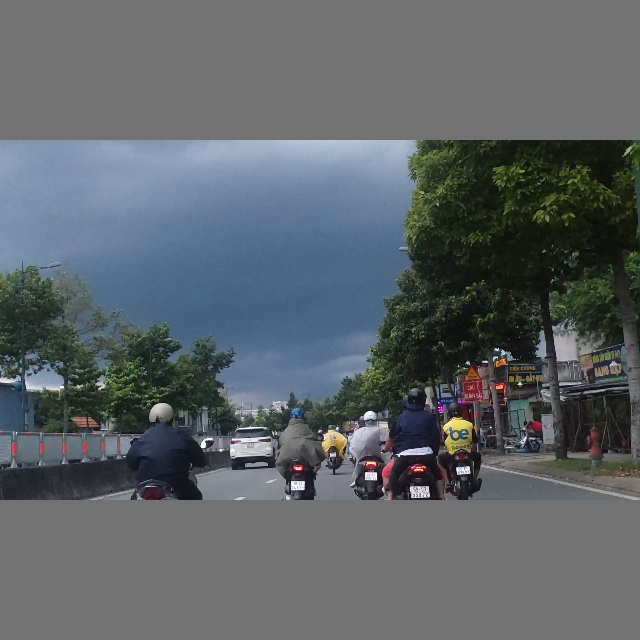I.434a: (438, 382, 456, 404)
W.245a: (463, 366, 481, 381)
